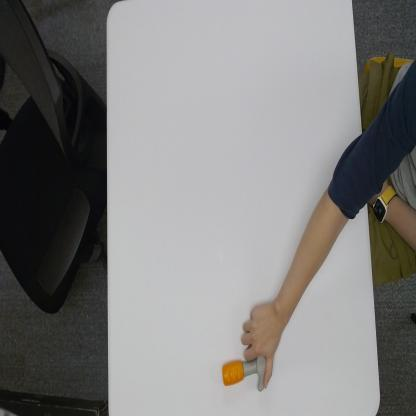Arm: (278, 148, 366, 336)
Hammer: (222, 353, 267, 392)
Hand: (241, 300, 282, 384)
